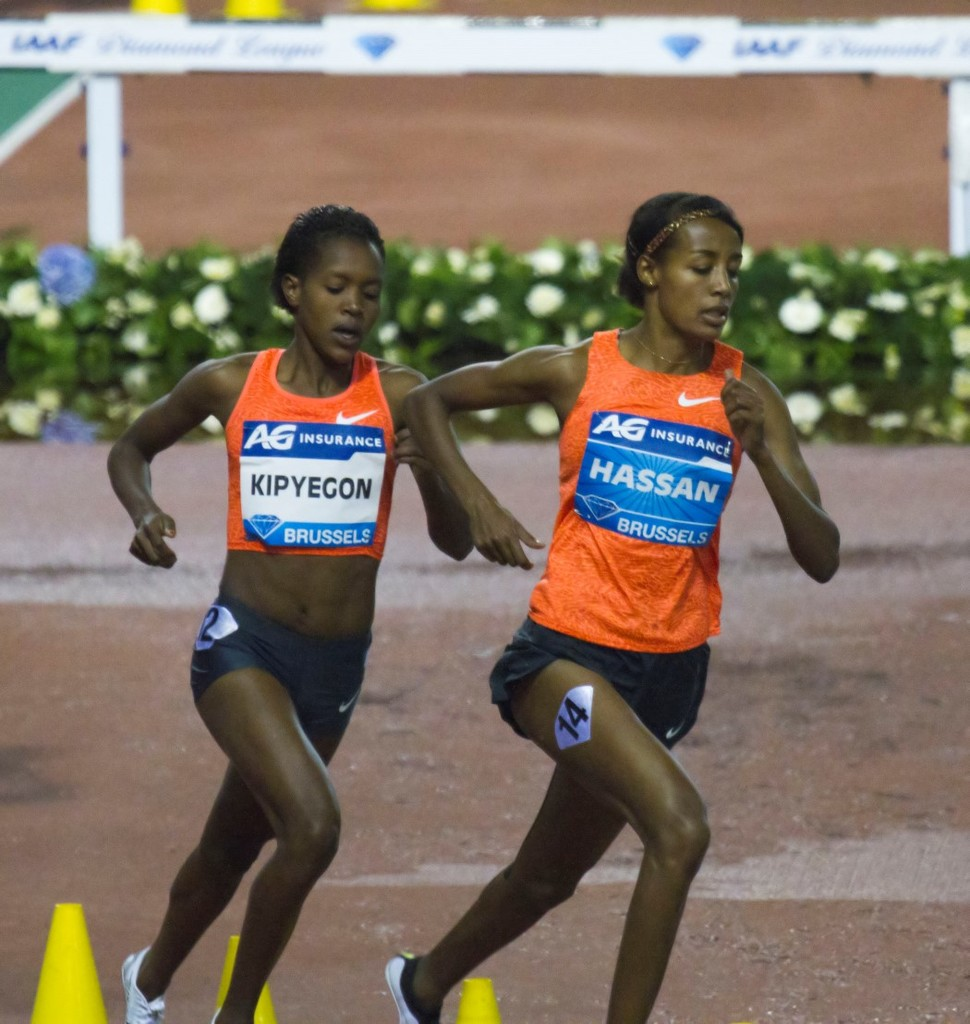Footwear: (390, 954, 446, 1023), (121, 944, 165, 1019), (216, 1006, 222, 1023)
